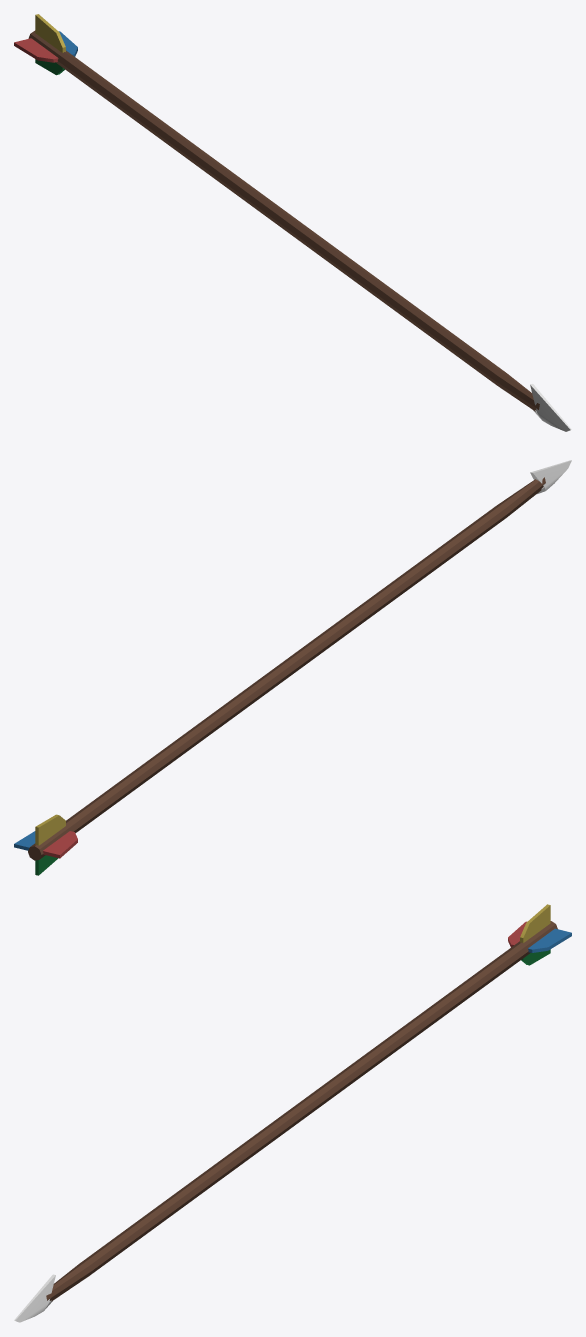
File: CowArrowColored.fbx
3 renders of one model, top to bottom at view 1: azimuth 30°, elevation 25°; view 2: azimuth 150°, elevation 25°; view 3: azimuth 330°, elevation 25°, orthographic.
Visible parts, largest first — view 1: polySurface25; view 2: polySurface25; view 3: polySurface25.
Part boxes in pixels (x1,y1,x2,y2): polySurface25: [14, 14, 571, 431]; polySurface25: [14, 460, 571, 875]; polySurface25: [14, 904, 571, 1322].
Size of the model in its own units: 45.17 by 45.17 by 912.
